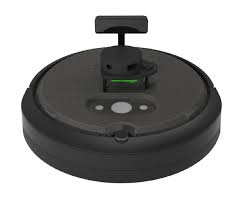turtlebot: (13, 8, 235, 188)
